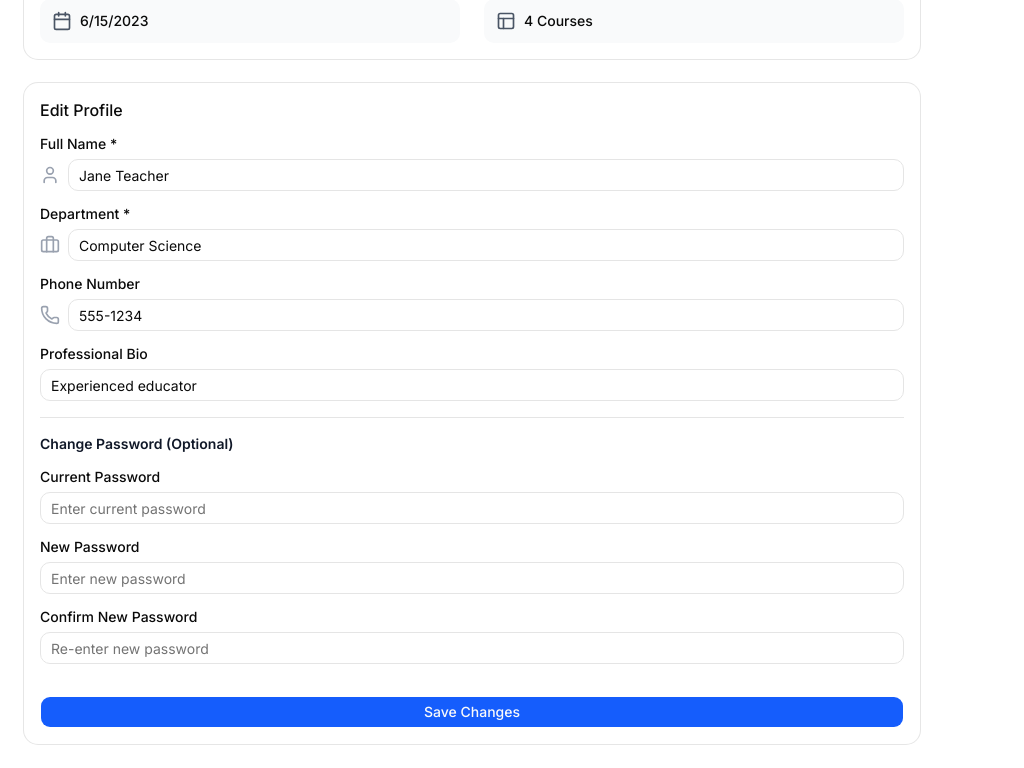
Test: Teacher Profile Page - Form Validation (10.4) › shows error when new password and confirm password do not match
The width and height of the screenshot is (1024, 768).
(page scrolled)
Expected: the field showing "Jane Teacher" is shown, [68, 159, 904, 191]
Type "oldpass" into the password field labelled "Current Password" at coordinates (472, 508), box [40, 492, 904, 524]
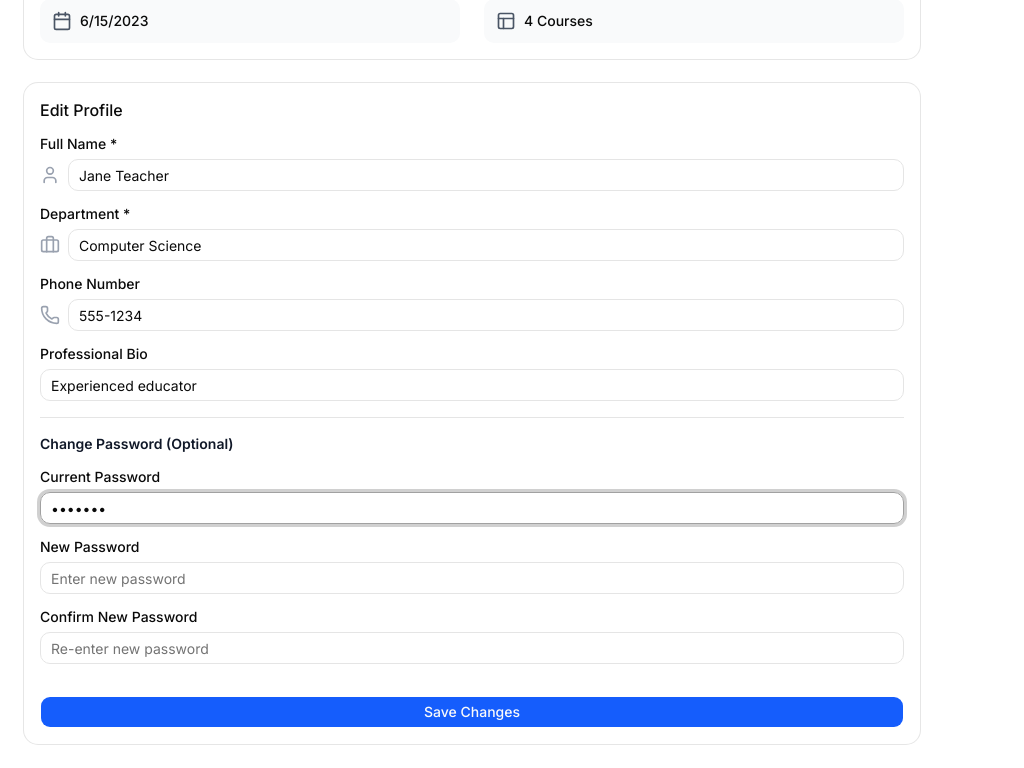
Type "newpass1" into the password field labelled "New Password" at coordinates (472, 578), box [40, 562, 904, 594]
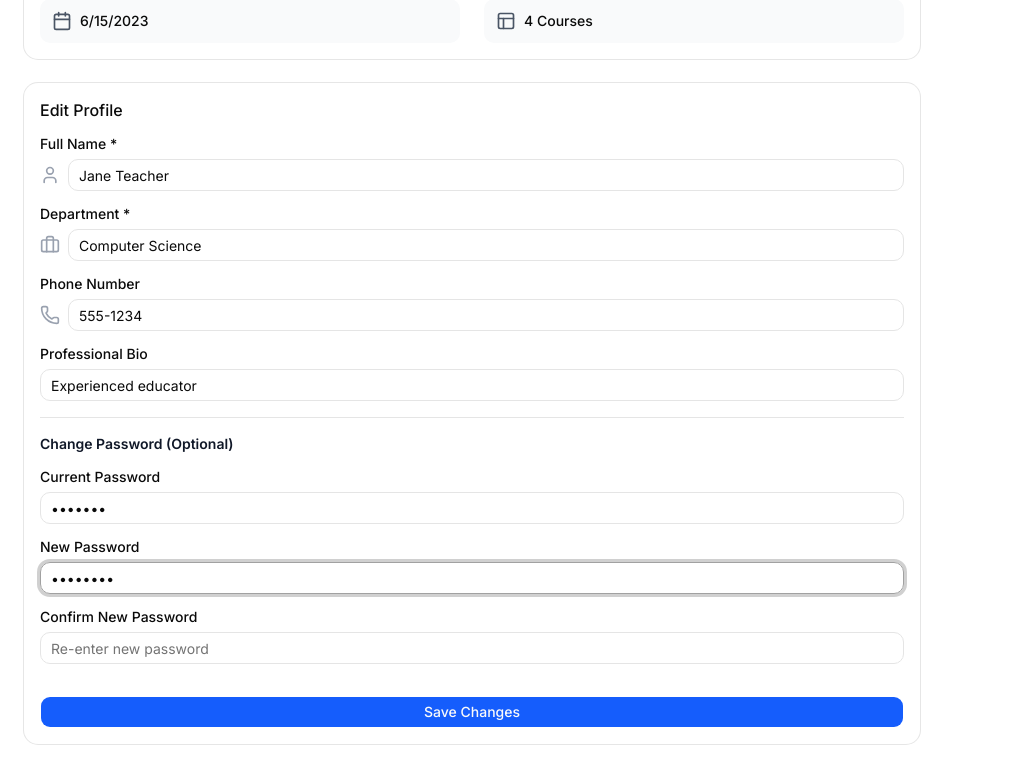
Type "newpass2" into the password field labelled "Confirm New Password" at coordinates (472, 648), box [40, 632, 904, 664]
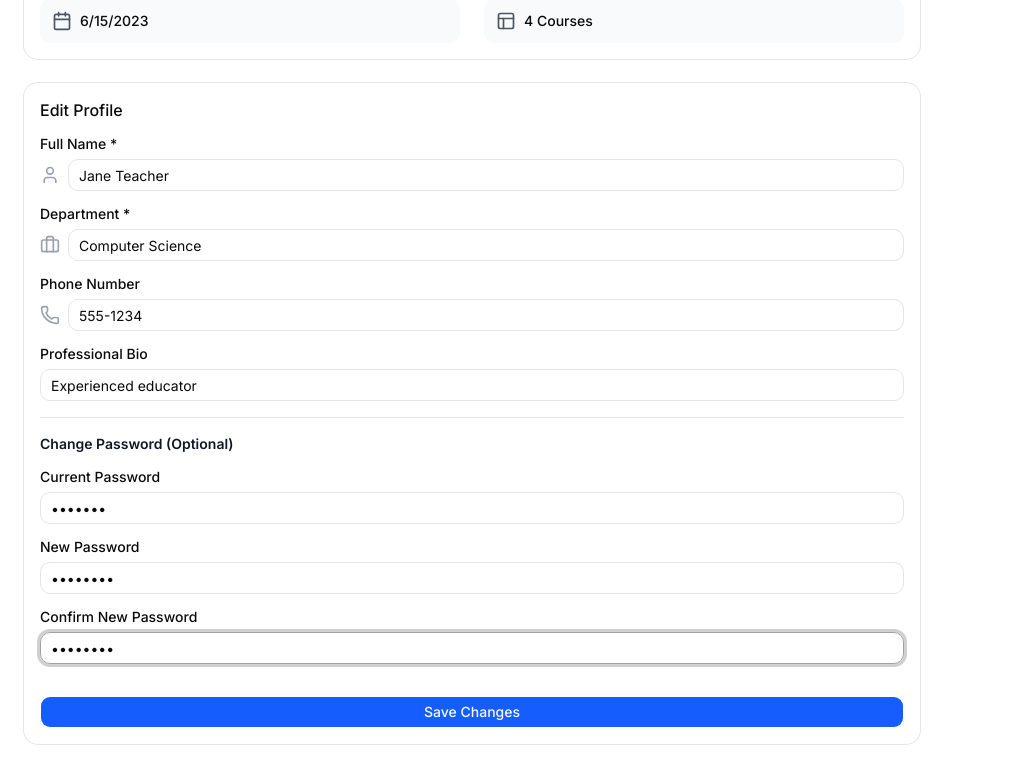
Submit the form named "save changes"
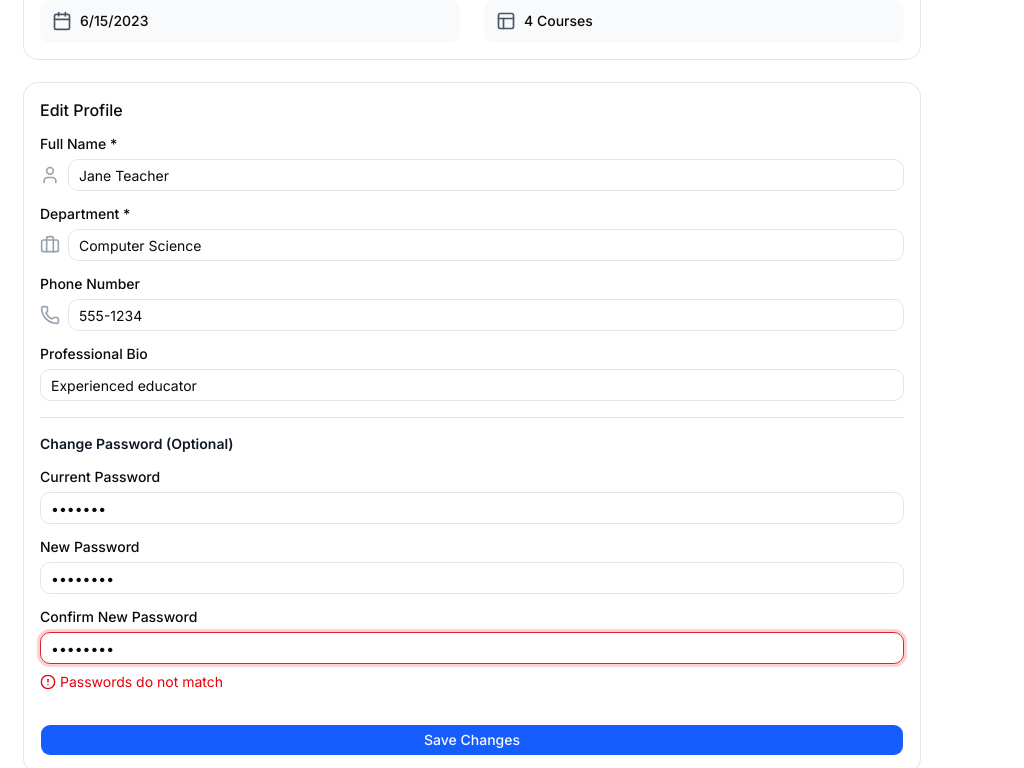
Expected: the text "Passwords do not match" is shown, [40, 673, 223, 690]
